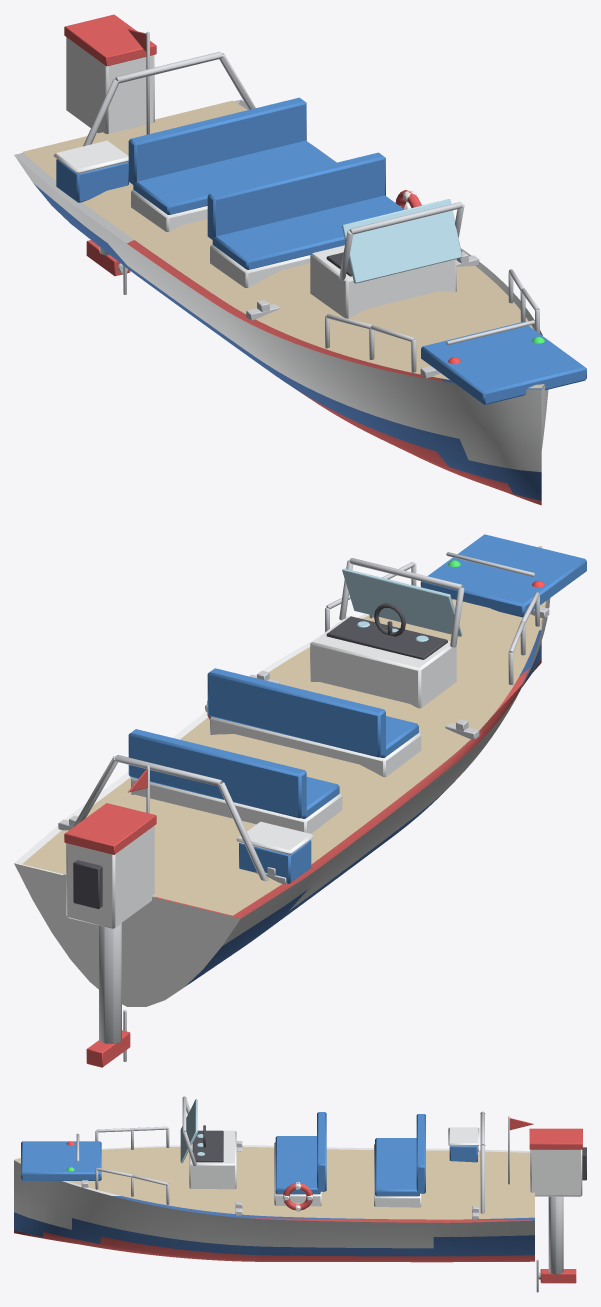
The model's file is kapal_a.fbx.
3 renders of one model, top to bottom at view 1: azimuth 30°, elevation 25°; view 2: azimuth 150°, elevation 25°; view 3: azimuth 270°, elevation 25°, orthographic. The views are drawn at different scales.
Parts seen in each view (by area): view 1: Jok, Geladak, Badan, Putih, Besi, Kaca, Garis, Merah, Bawah; view 2: Geladak, Jok, Putih, Badan, Besi, Kaca, Hitam, Merah, Bawah, Garis; view 3: Geladak, Badan, Jok, Garis, Putih, Bawah, Besi, Merah, Hitam, Kaca.
Boxes of the visible parts, <box> form: Jok: <box>56,97,586,404</box>; Geladak: <box>22,100,544,388</box>; Badan: <box>14,99,548,472</box>; Putih: <box>54,37,456,318</box>; Besi: <box>83,31,539,378</box>; Kaca: <box>342,199,462,283</box>; Garis: <box>33,183,541,500</box>; Merah: <box>64,14,421,276</box>; Bawah: <box>127,240,541,505</box>; Geladak: <box>22,546,545,915</box>; Jok: <box>128,534,586,883</box>; Putih: <box>66,616,456,928</box>; Badan: <box>14,598,550,1006</box>; Besi: <box>58,552,549,1061</box>; Kaca: <box>342,568,462,641</box>; Hitam: <box>73,603,447,908</box>; Merah: <box>64,701,211,1067</box>; Bawah: <box>154,658,541,918</box>; Garis: <box>63,629,541,986</box>; Geladak: <box>14,1146,534,1219</box>; Badan: <box>14,1145,534,1248</box>; Jok: <box>21,1112,477,1196</box>; Garis: <box>14,1196,534,1256</box>; Putih: <box>189,1127,582,1211</box>; Bawah: <box>14,1218,534,1262</box>; Besi: <box>76,1096,563,1292</box>; Merah: <box>283,1118,582,1283</box>; Hitam: <box>192,1125,586,1180</box>; Kaca: <box>180,1099,204,1162</box>.
Size of the model in its own units: 7.4 by 8.34 by 24.2.
